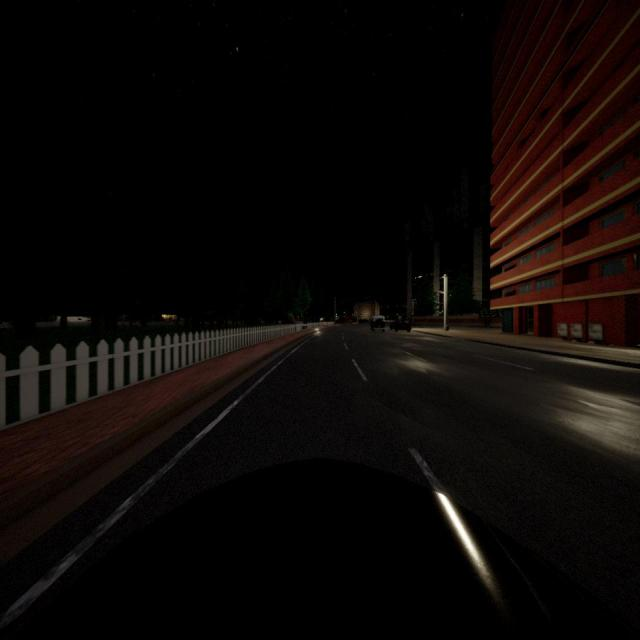Vehicle: (0, 466, 640, 640), (389, 318, 412, 333), (370, 315, 385, 333)
traffic_light: (441, 309, 444, 314), (434, 292, 436, 299), (412, 312, 414, 316), (387, 305, 389, 308), (380, 306, 382, 308)
